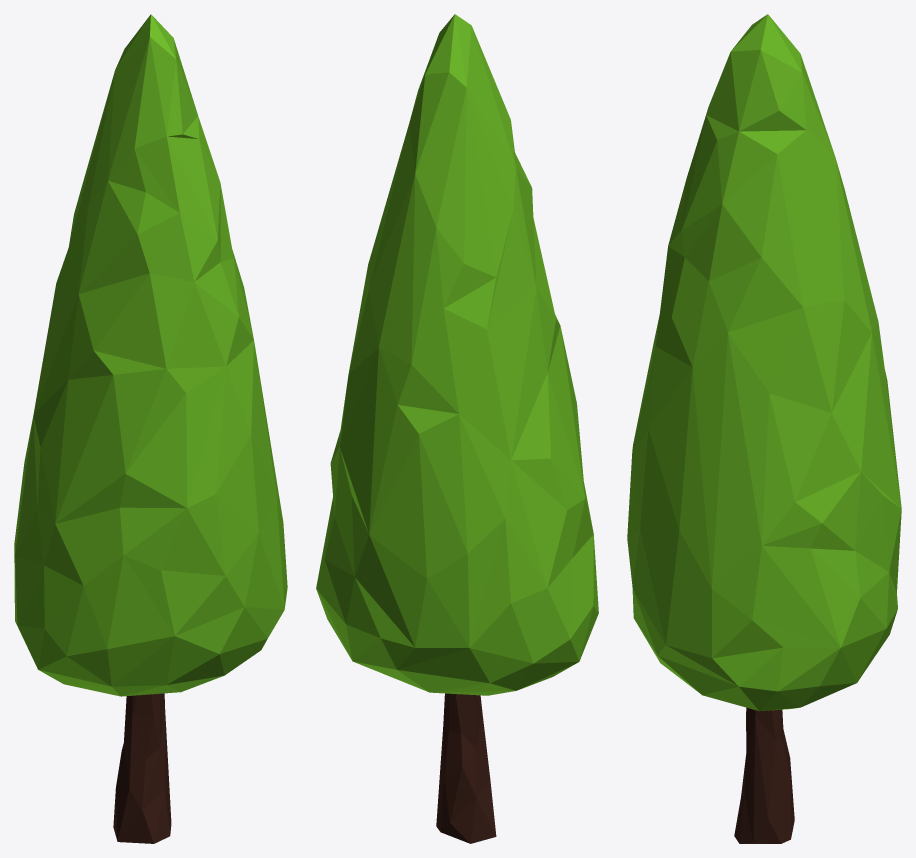
File: pine_d.FBX
The picture shows the model from 3 angles, left to right: view 1: azimuth 30°, elevation 25°; view 2: azimuth 150°, elevation 25°; view 3: azimuth 270°, elevation 25°; orthographic projection.
Parts seen in each view (by area): view 1: pine_d; view 2: pine_d; view 3: pine_d.
Part boxes in pixels (x1,y1,x2,y2): pine_d: [14, 14, 287, 843]; pine_d: [316, 14, 598, 843]; pine_d: [627, 14, 901, 843].
Size of the model in its own units: 373 by 1211 by 363.
